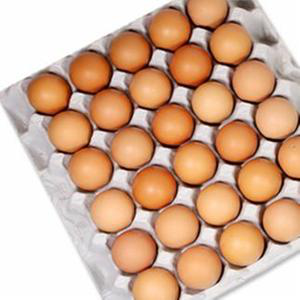egg: (26, 1, 300, 298)
